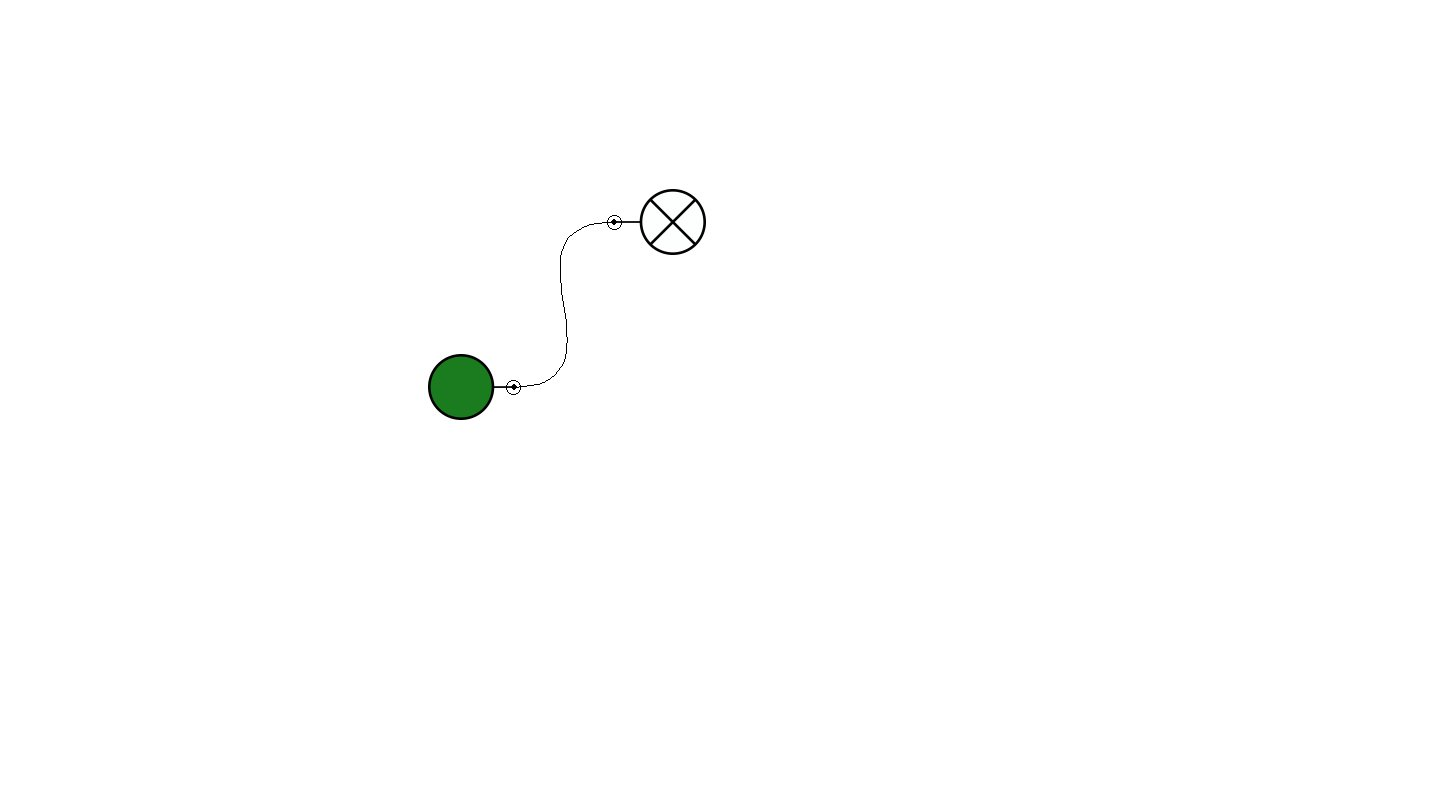bulb: (607, 189, 706, 255)
switch_True: (428, 354, 521, 420)
